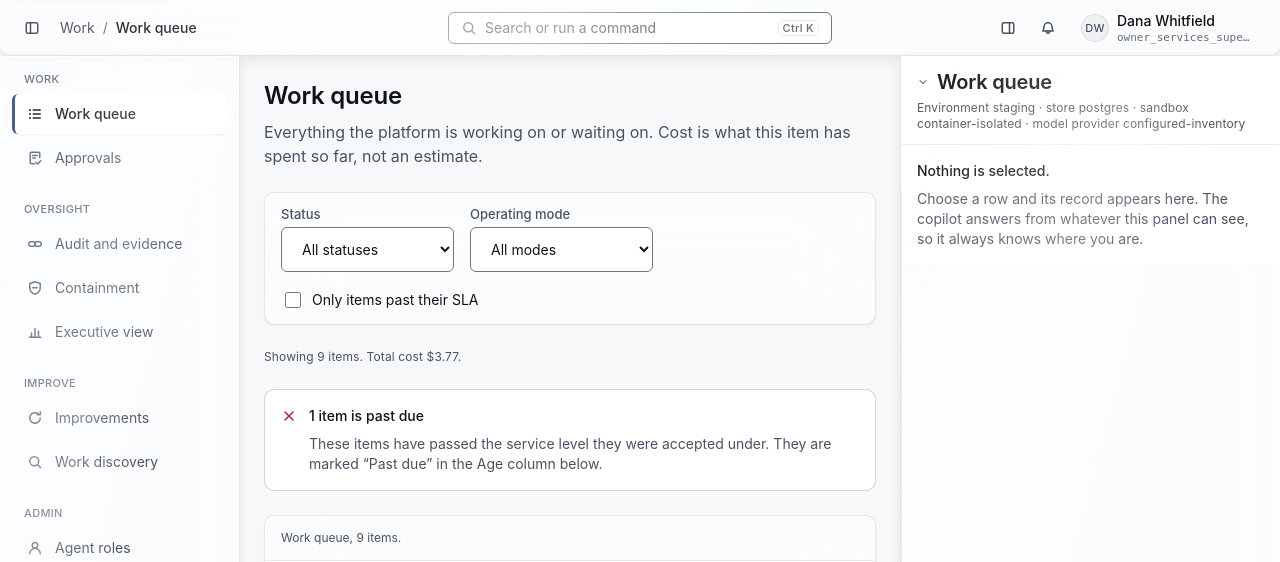
Test: App shell › navigates from the command palette, which is primary navigation and not a bonus
Expected: the 2nd heading "Work queue" is shown, [264,81,402,110]
Type keys "{Control>}k{/Control}"
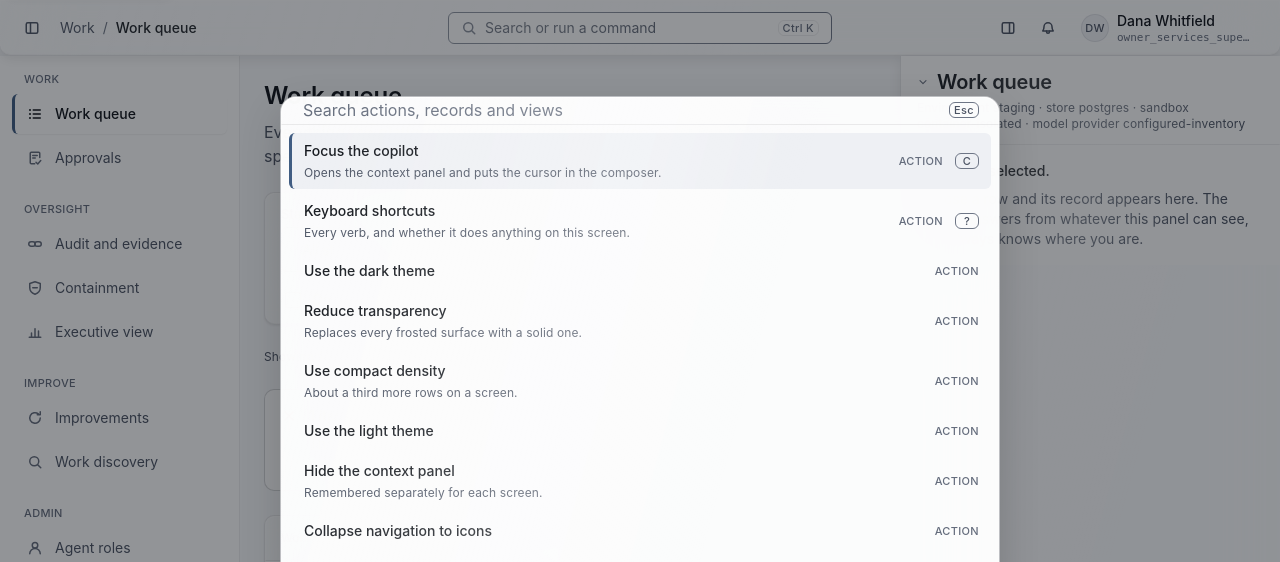
Type "improvements" into the dropdown named "Search actions, records and saved views".
click(619, 110); type("improvements")  # box [301,97,937,123]
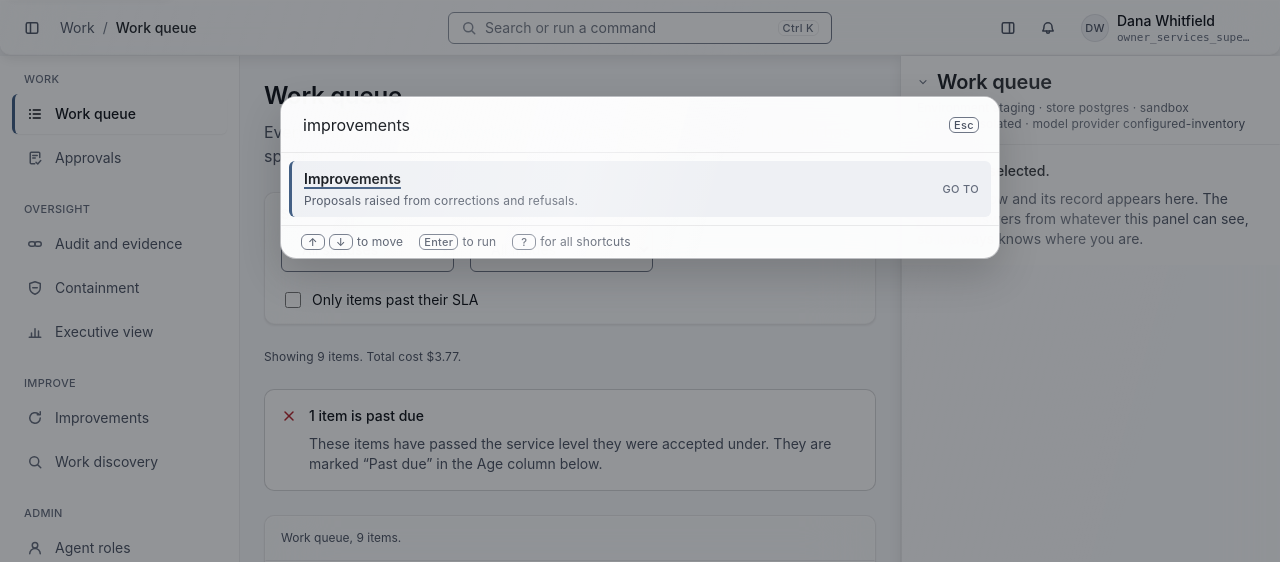
Press Enter
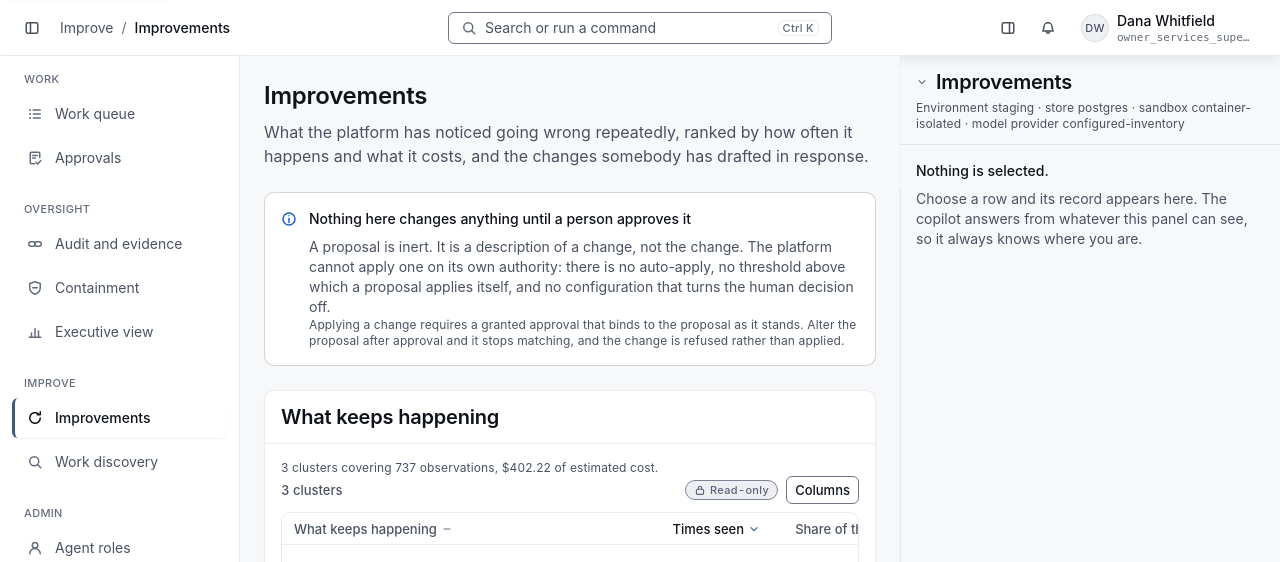
Now the 2nd heading "Improvements" is shown, box [264,81,427,110]
